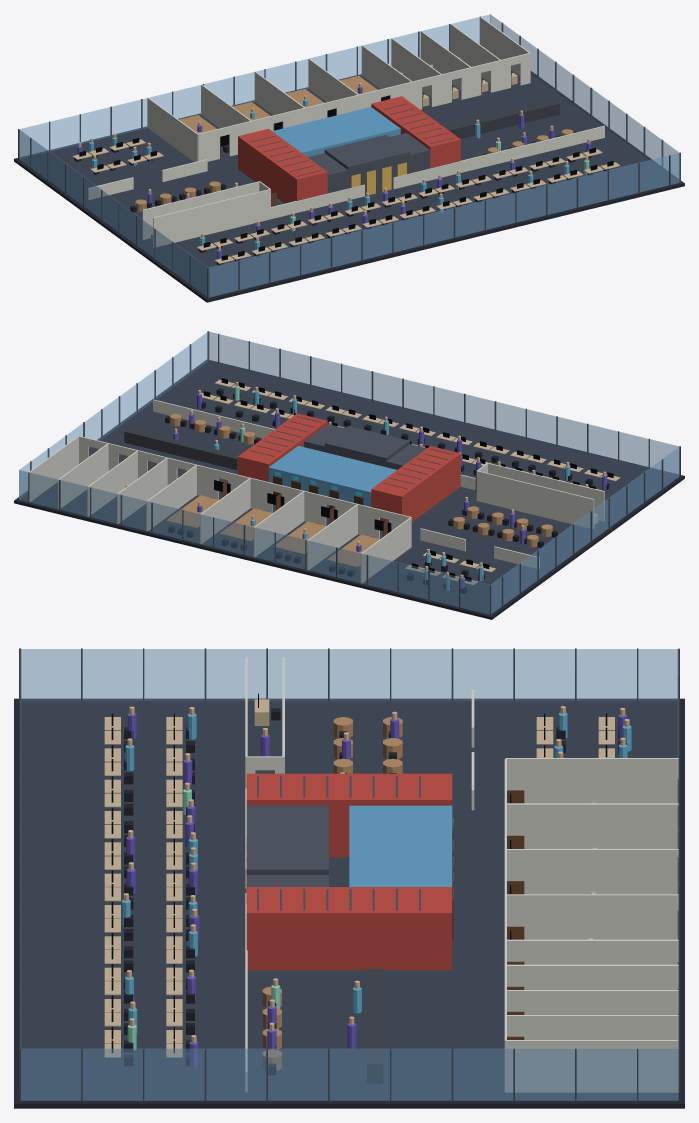
3 renders of one model, top to bottom at view 1: azimuth 30°, elevation 25°; view 2: azimuth 150°, elevation 25°; view 3: azimuth 270°, elevation 25°, orthographic. The views are drawn at different scales.
Parts seen in each view (by area): view 1: L26_floor_carpet, L26_glass, L26_wall, L26_core, L26_stair, L26_desk, L26_slab, L26_wash, L26_screen, L26_table, L26_counter, L26_chair (+4 smaller); view 2: L26_glass, L26_floor_carpet, L26_wall, L26_core, L26_stair, L26_slab, L26_table, L26_wash, L26_chair, L26_desk, L26_screen, L26_counter (+3 smaller); view 3: L26_floor_carpet, L26_glass, L26_wall, L26_stair, L26_core, L26_desk, L26_slab, L26_wash, L26_chair, L26_role_manager, L26_table, L26_role_analyst (+4 smaller).
Part boxes in pixels (<box>): L26_floor_carpet: <box>19,70,679,297</box>; L26_glass: <box>19,14,679,296</box>; L26_wall: <box>88,17,604,247</box>; L26_core: <box>18,16,680,298</box>; L26_stair: <box>238,96,460,203</box>; L26_desk: <box>72,73,620,263</box>; L26_slab: <box>14,71,684,302</box>; L26_wash: <box>272,107,400,156</box>; L26_screen: <box>79,71,613,260</box>; L26_table: <box>135,76,573,211</box>; L26_counter: <box>444,100,559,138</box>; L26_chair: <box>74,78,609,265</box>; L26_glass: <box>19,331,679,614</box>; L26_floor_carpet: <box>19,361,679,614</box>; L26_wall: <box>28,399,604,583</box>; L26_core: <box>28,331,680,615</box>; L26_stair: <box>238,413,460,522</box>; L26_slab: <box>14,360,684,619</box>; L26_table: <box>166,414,552,567</box>; L26_wash: <box>268,445,396,507</box>; L26_chair: <box>165,388,609,593</box>; L26_desk: <box>201,379,620,585</box>; L26_screen: <box>203,378,613,581</box>; L26_counter: <box>124,428,239,469</box>; L26_floor_carpet: <box>21,700,678,1101</box>; L26_glass: <box>20,649,678,1100</box>; L26_wall: <box>245,657,678,1092</box>; L26_stair: <box>246,773,452,970</box>; L26_core: <box>19,648,679,1101</box>; L26_desk: <box>104,699,614,1057</box>; L26_slab: <box>14,698,684,1108</box>; L26_wash: <box>349,805,452,886</box>; L26_chair: <box>124,708,627,1075</box>; L26_role_manager: <box>126,713,627,1067</box>; L26_table: <box>262,717,402,1070</box>; L26_role_analyst: <box>121,712,631,1032</box>.
Bounding box in the file's own units: 46.6 × 3.37 × 32.6.
